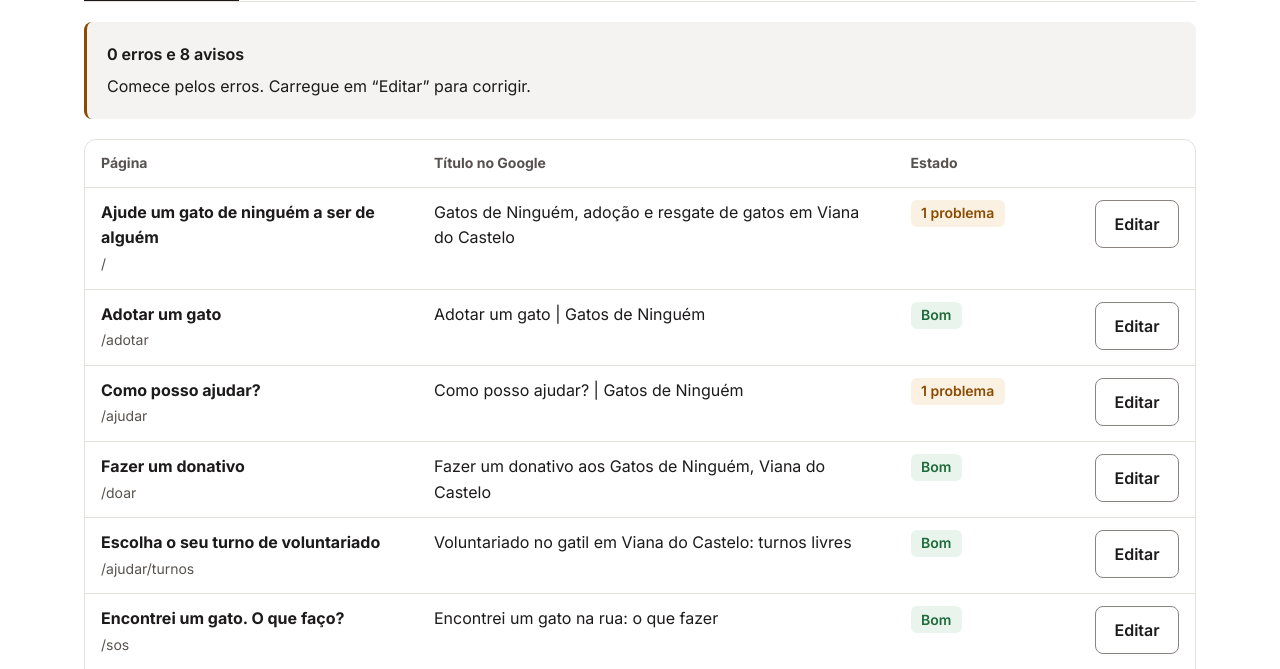
it: SEO › lists pages with problems and opens the editor with a live Google preview
(page scrolled)
Expected: the text "0 erros e 8 avisos" is shown, top-left (107, 44), bottom-right (244, 64)
Click the button named "Editar Adotar um gato" at (1137,326), box top-left (1095, 302), bottom-right (1179, 350)
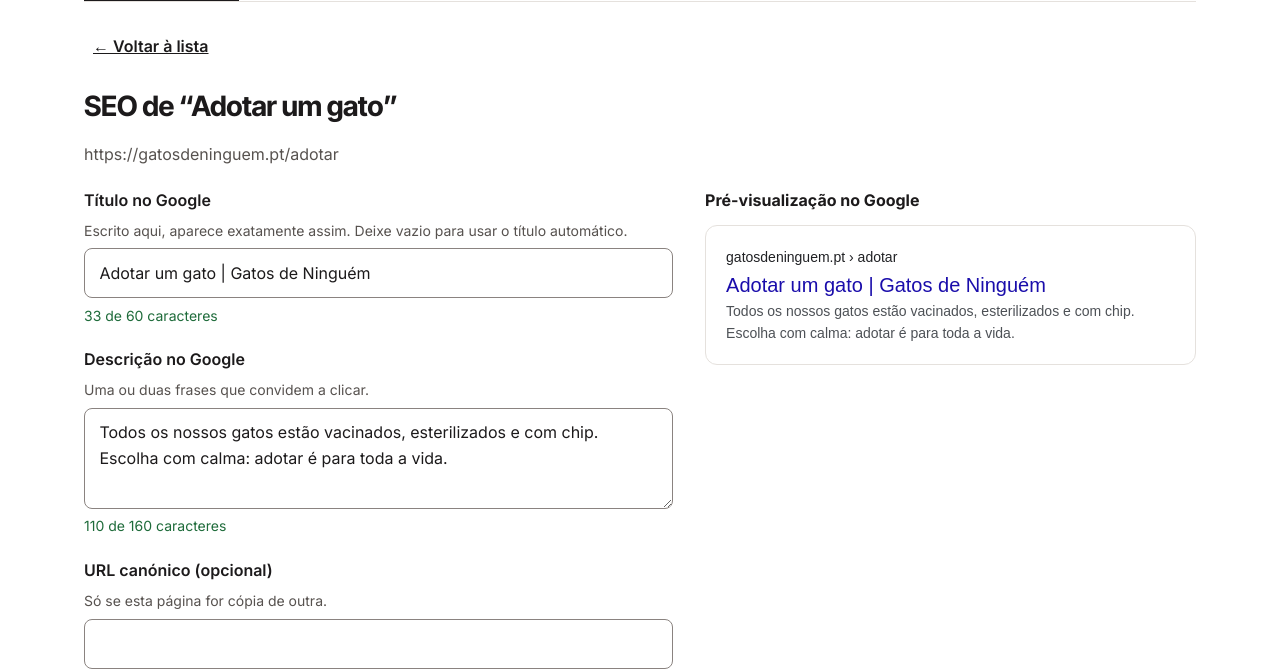
Replace the text in the field labelled "Título no Google" with "Adotar gatos em Viana do Castelo" at (379,273), box top-left (84, 248), bottom-right (673, 298)
(page scrolled)
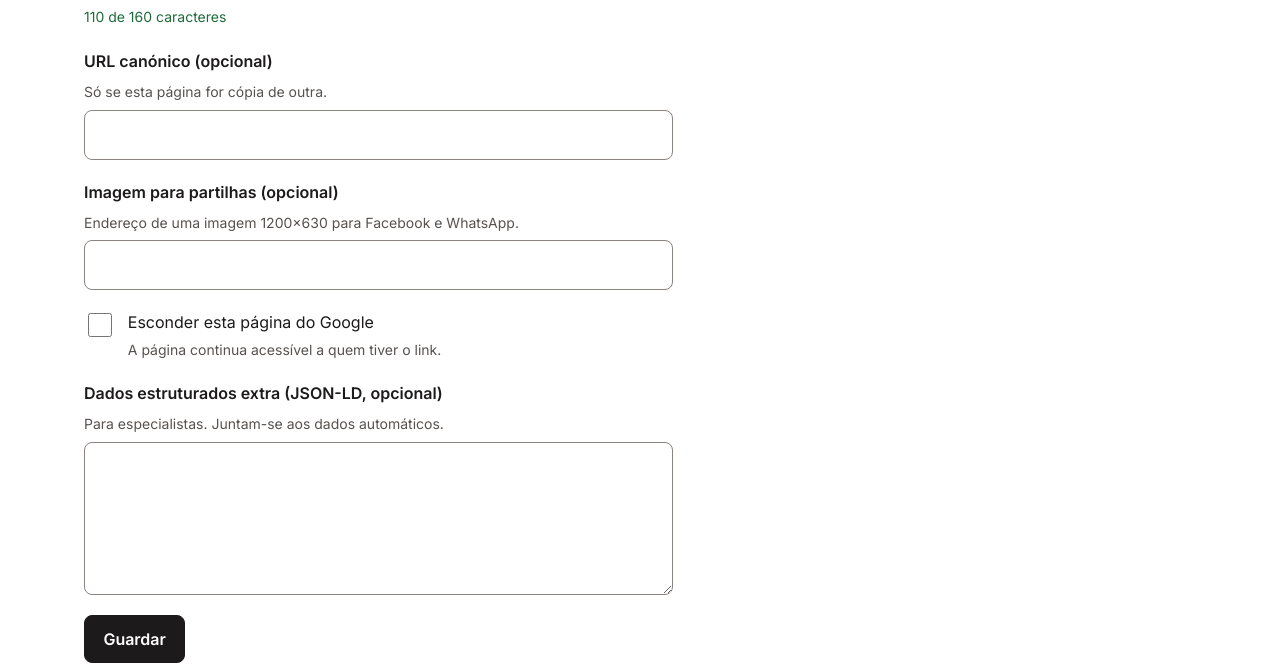
Click the checkbox labelled "Esconder esta página do Google" at (100,325), box top-left (88, 313), bottom-right (112, 337)
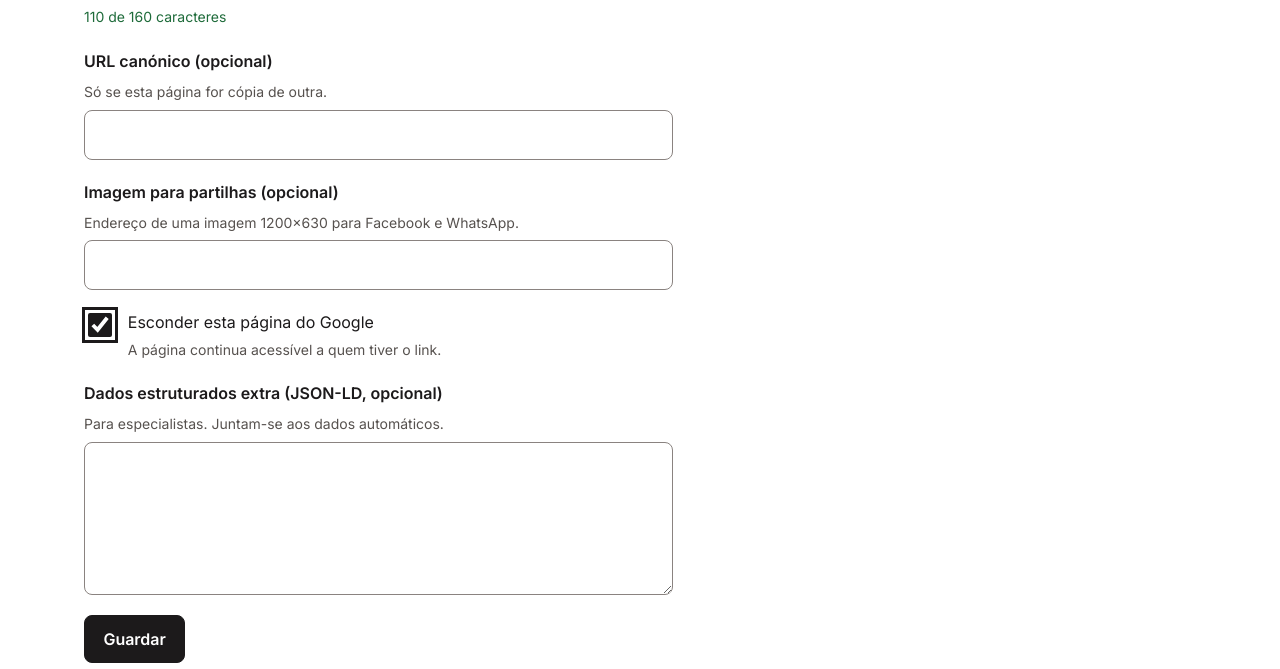
Click the button "Guardar" at (135,638), box top-left (84, 614), bottom-right (185, 662)
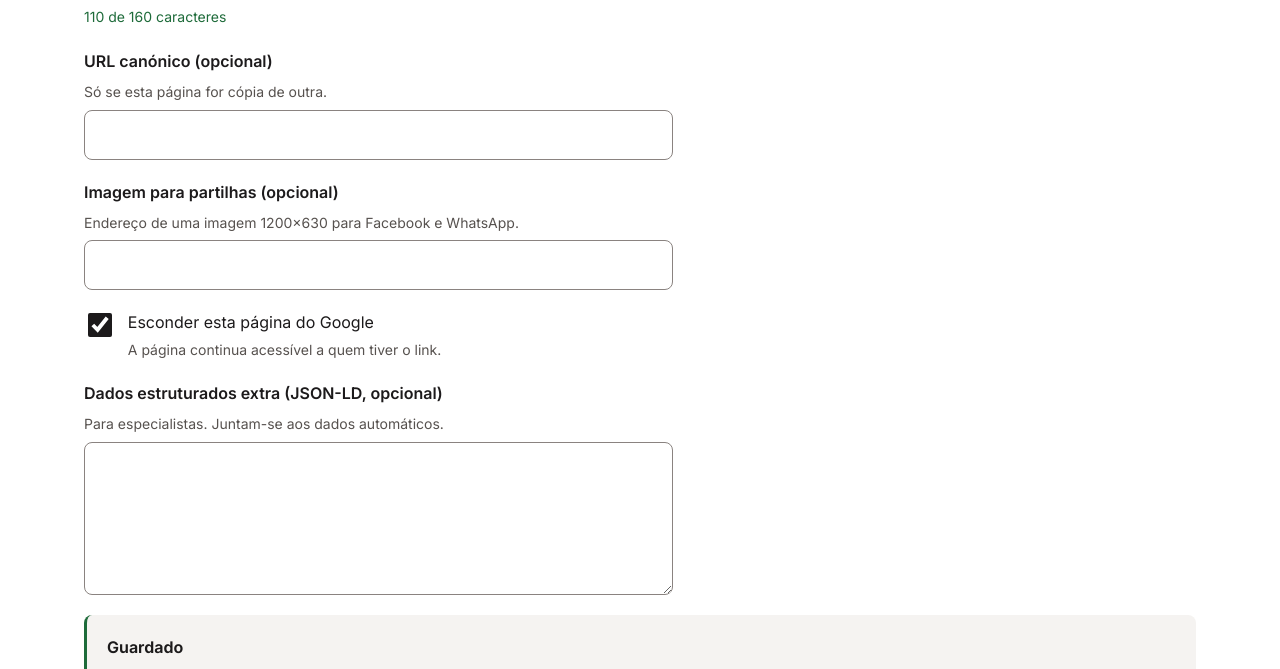
Now the text "Guardado" is shown, box top-left (107, 636), bottom-right (183, 656)
